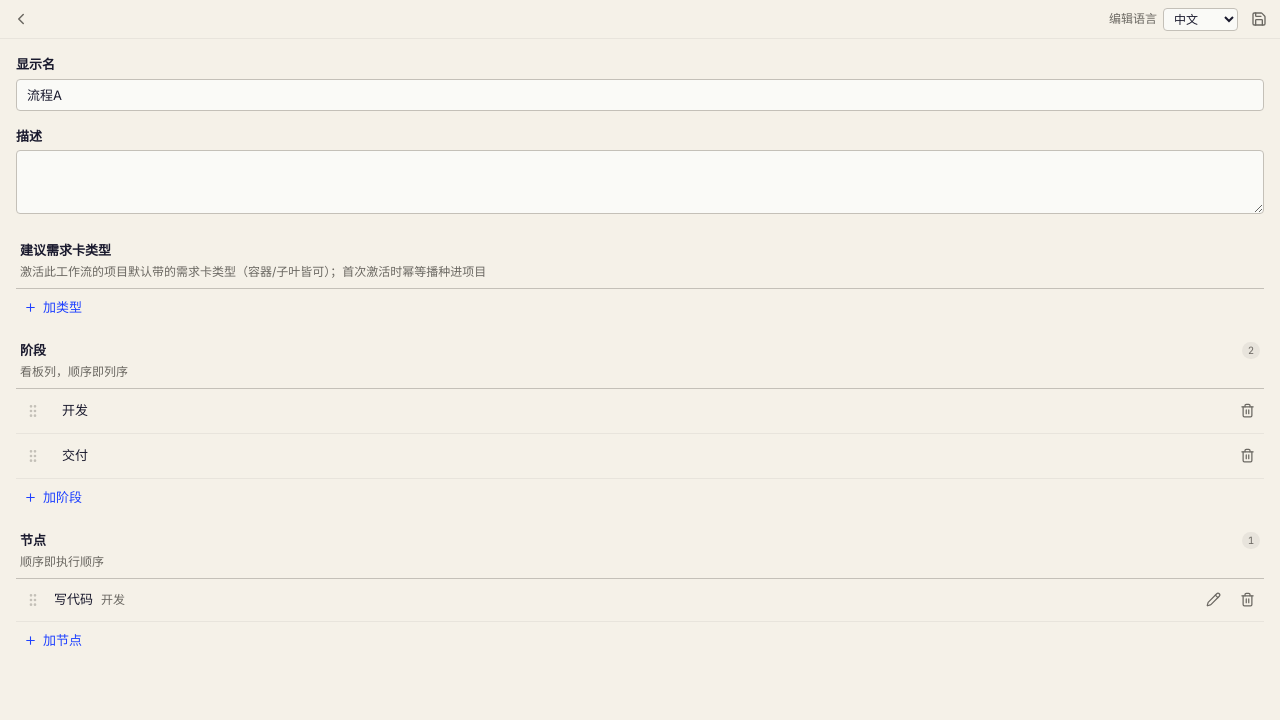
WorkflowEditor 表单编辑 › 各字段按类型呈现并填入当前值
Expected: the field named "工作流名" holds "流程A", [16, 78, 1264, 110]
Click the button named "编辑节点 写代码" at [1213, 600], box [1200, 586, 1226, 612]
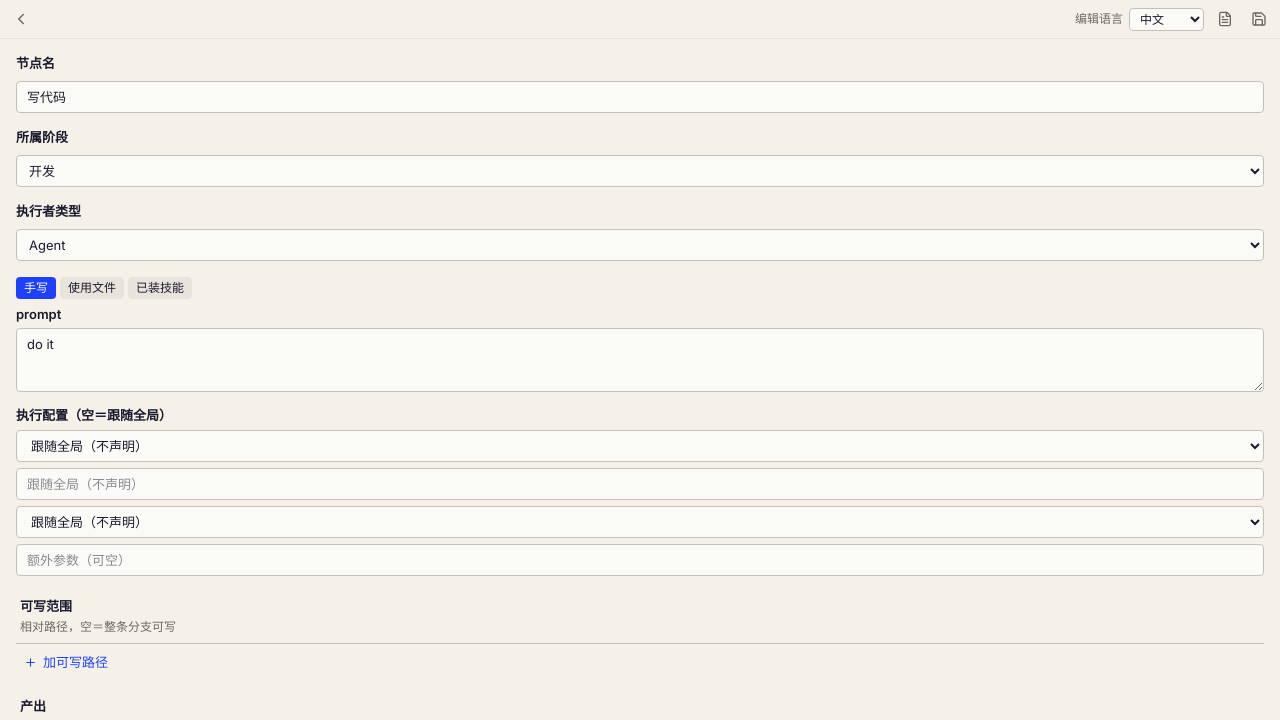
Expected: the field named "节点名" holds "写代码", [16, 81, 1264, 113]
Expected: the dropdown named "执行者类型" shows "Agent", [16, 229, 1264, 261]
Expected: the text box labelled "prompt" holds "do it", [16, 328, 1264, 392]
